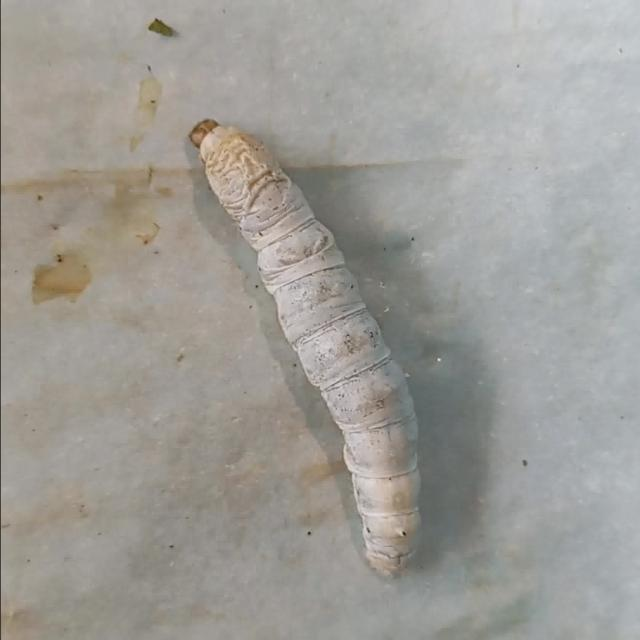Grasserie: (163, 85, 489, 599)
